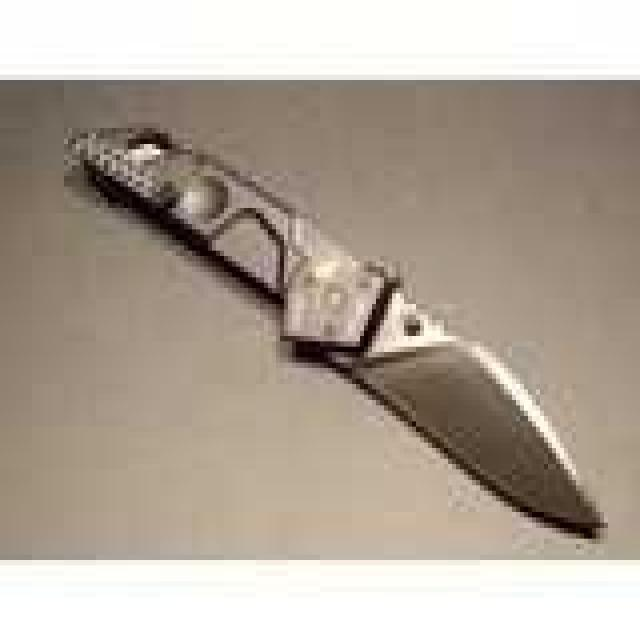Knife: (61, 113, 615, 538)
